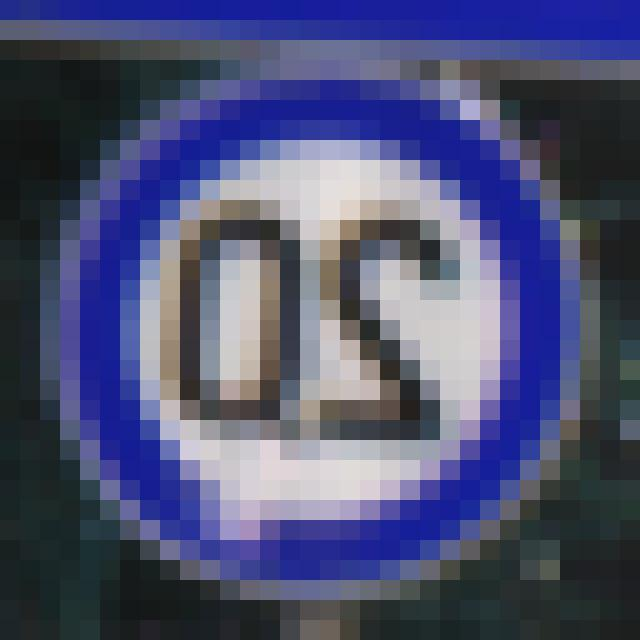SPEED LIMIT 20: (29, 85, 584, 595)
